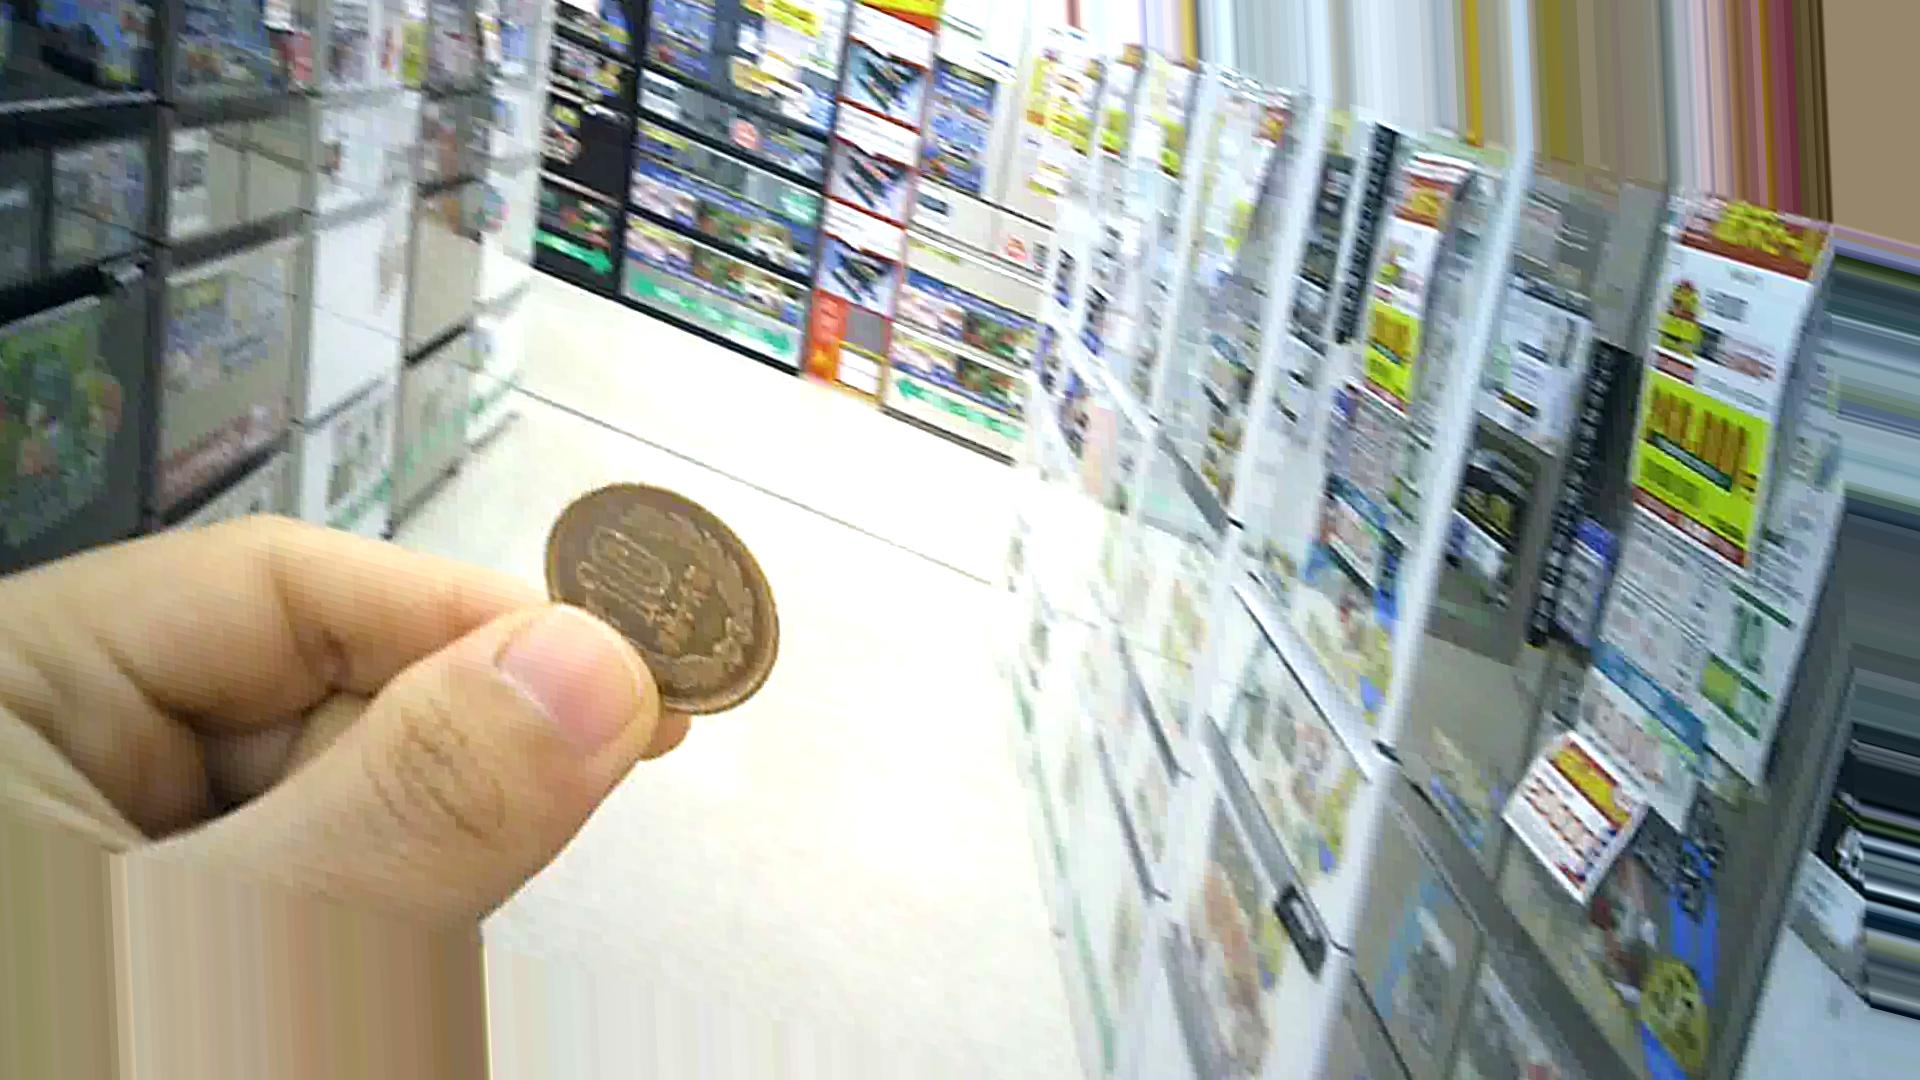10 Yen: (537, 477, 775, 712)
